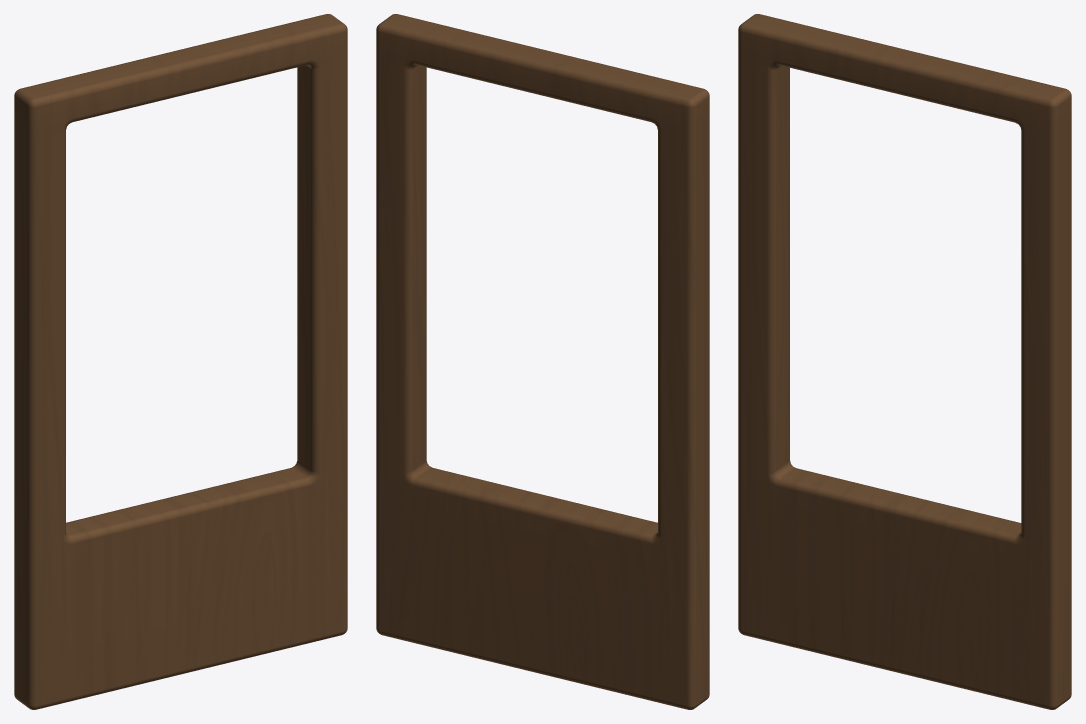
Rendered from DoorTest 1.fbx.
3 views of the same model, side by side, from view 1: azimuth 30°, elevation 25°; view 2: azimuth 150°, elevation 25°; view 3: azimuth 330°, elevation 25° (orthographic).
Visible parts, largest first — view 1: Door3:Door_FrameDoorSG; view 2: Door3:Door_FrameDoorSG; view 3: Door3:Door_FrameDoorSG.
Part boxes in pixels (left/top/right/bottom): Door3:Door_FrameDoorSG: left=14, top=14, right=347, bottom=709; Door3:Door_FrameDoorSG: left=376, top=14, right=709, bottom=709; Door3:Door_FrameDoorSG: left=738, top=14, right=1071, bottom=709.
Size of the model in its own units: 7.33 by 13.4 by 0.7699.
